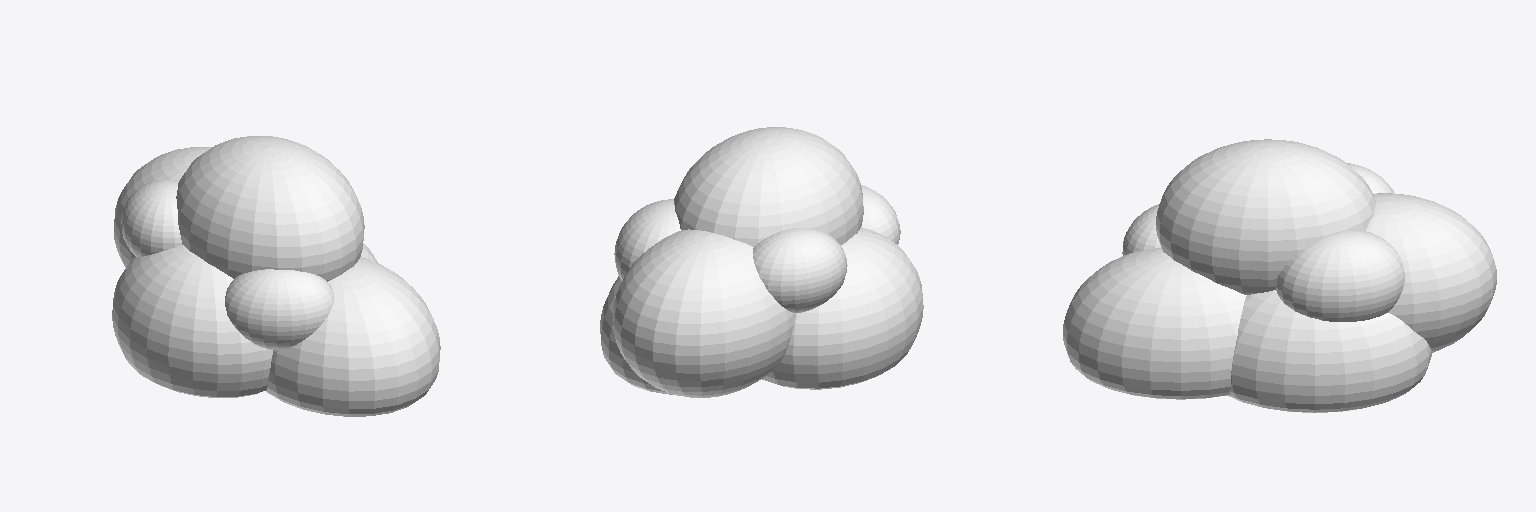
Rendered from clouds_mdl.obj.
3 renders of one model, left to right at view 1: azimuth 30°, elevation 25°; view 2: azimuth 150°, elevation 25°; view 3: azimuth 270°, elevation 25°, orthographic.
Parts seen in each view (by area): view 1: clouds_GEO; view 2: clouds_GEO; view 3: clouds_GEO.
Boxes of the visible parts, box(x1,y1,x2,y2) form: clouds_GEO: box(112, 136, 440, 416); clouds_GEO: box(600, 127, 923, 397); clouds_GEO: box(1063, 139, 1496, 412).
Bounding box in the file's own units: 134 × 107 × 190.